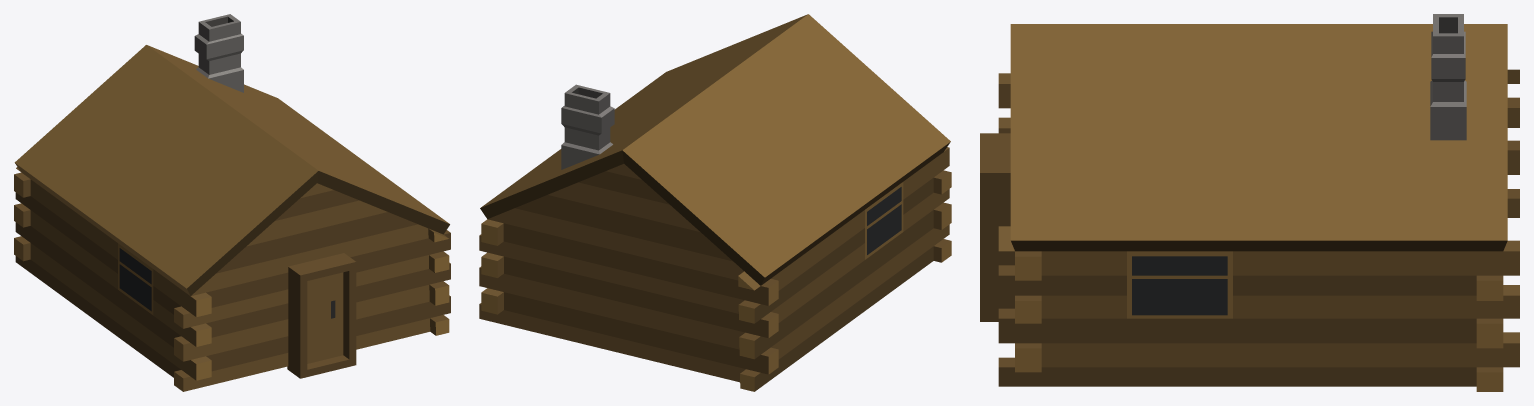
File: SA_Bld_LogCabin_01.gltf
The picture shows the model from 3 angles, left to right: view 1: azimuth 30°, elevation 25°; view 2: azimuth 150°, elevation 25°; view 3: azimuth 270°, elevation 25°; orthographic projection. The views are drawn at different scales.
Parts seen in each view (by area): view 1: SA_Bld_LogCabin_01; view 2: SA_Bld_LogCabin_01; view 3: SA_Bld_LogCabin_01.
Boxes of the visible parts, x1=… form: SA_Bld_LogCabin_01: x1=14, y1=14, x2=450, y2=391; SA_Bld_LogCabin_01: x1=479, y1=14, x2=951, y2=391; SA_Bld_LogCabin_01: x1=980, y1=14, x2=1519, y2=391.
Bounding box in the file's own units: 11.92 × 9.29 × 14.42.
Materials: 1 (1 with a texture image).
